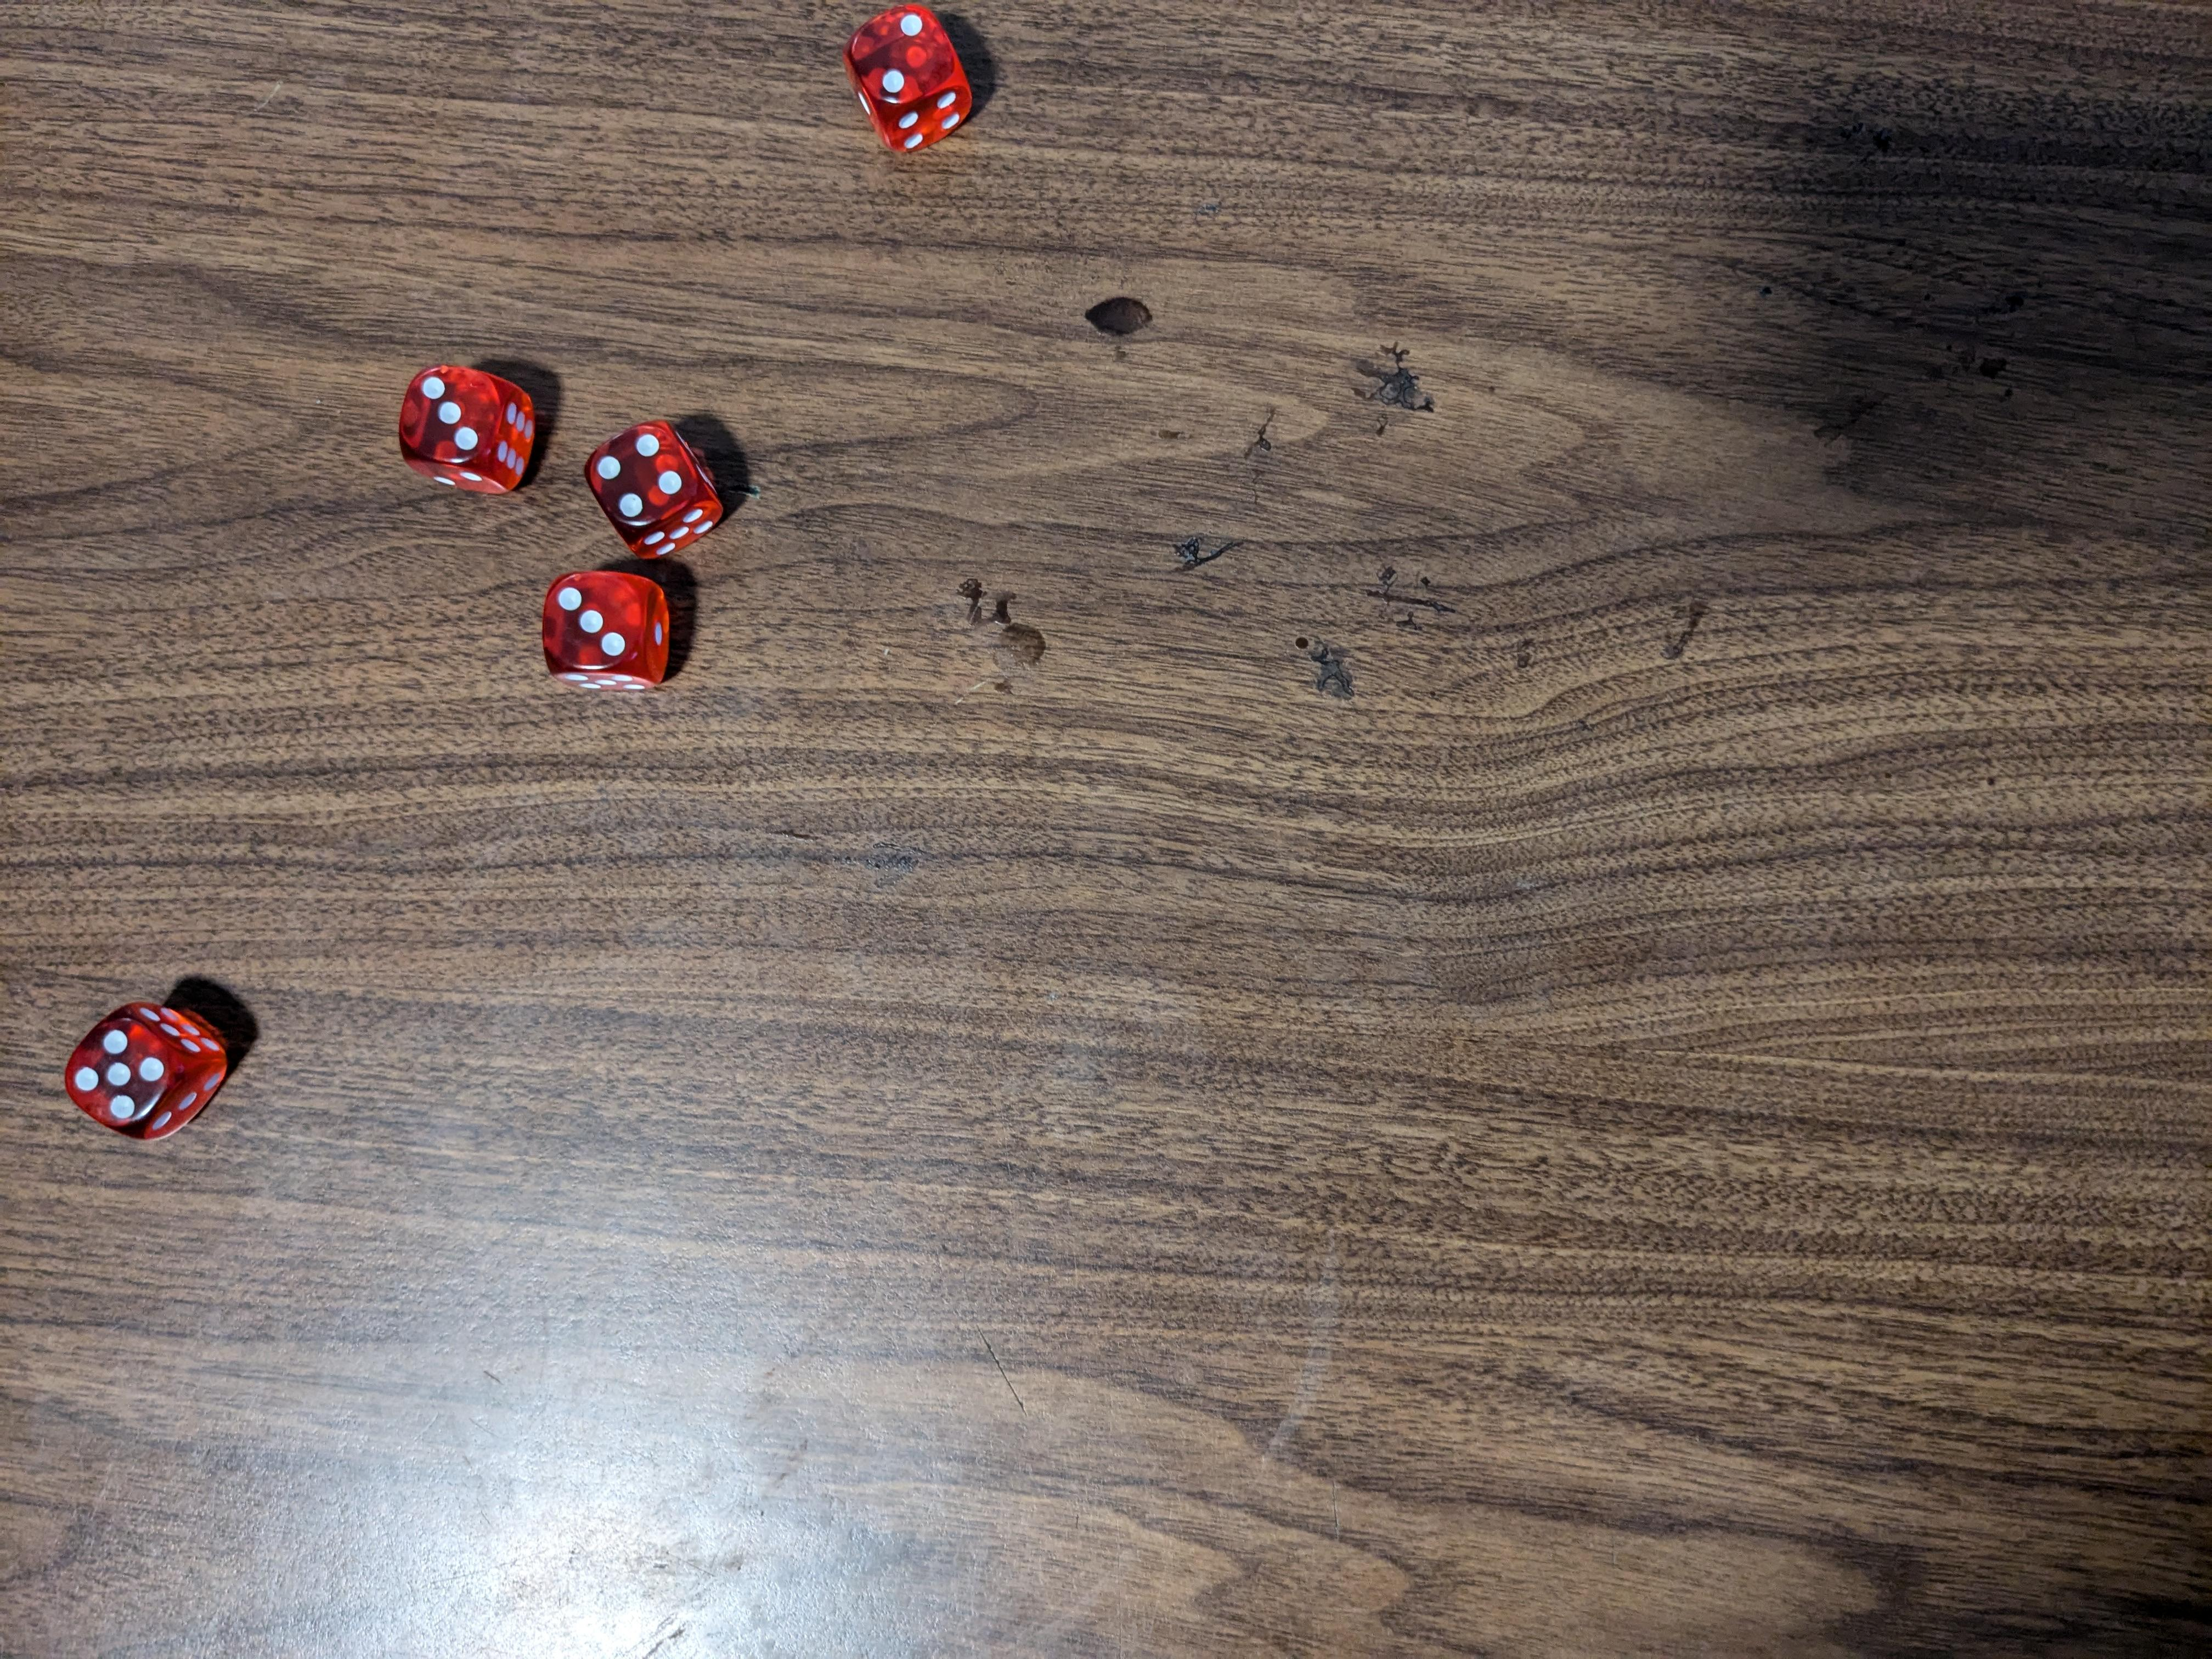five: (59, 1000, 240, 1136)
four: (580, 415, 732, 566)
three: (540, 561, 678, 697), (401, 362, 540, 490)
two: (840, 2, 982, 160)
